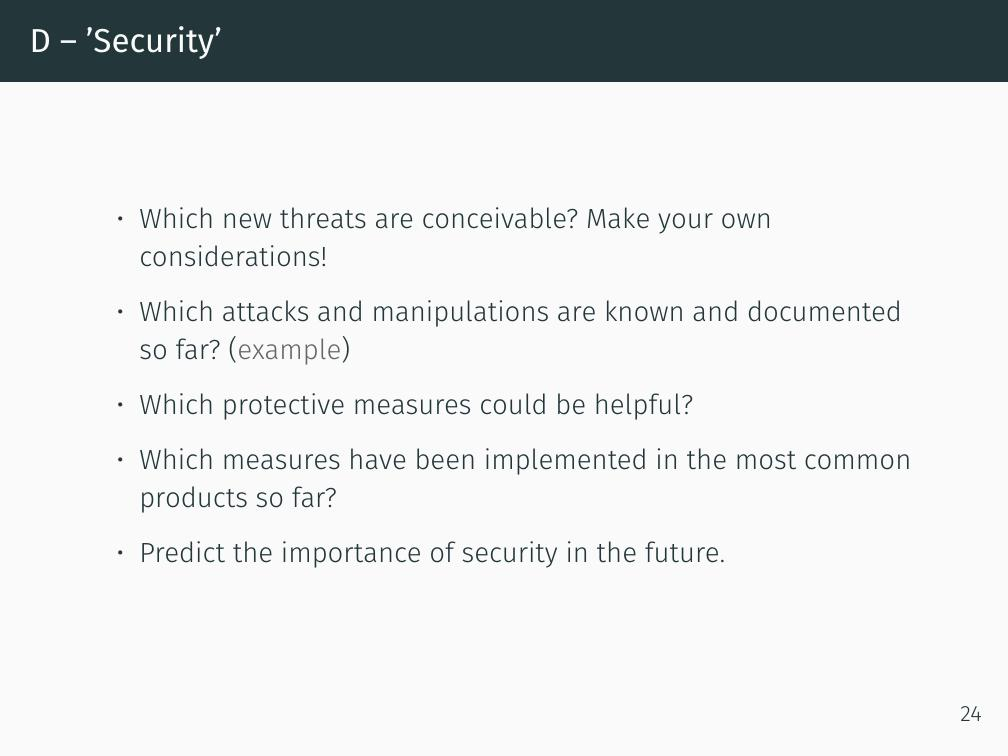Title: (20, 18, 235, 68)
